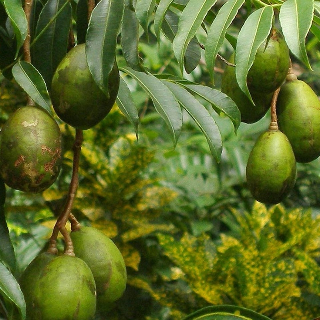coc: (1, 106, 61, 195), (246, 129, 296, 207)
